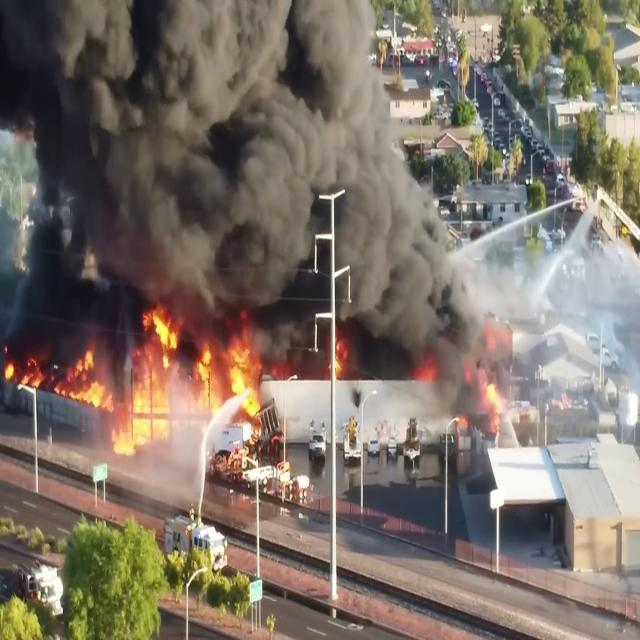Fire: (116, 292, 183, 464), (0, 340, 106, 398), (198, 332, 266, 418), (481, 378, 512, 430)
Smoke: (0, 0, 508, 365)
